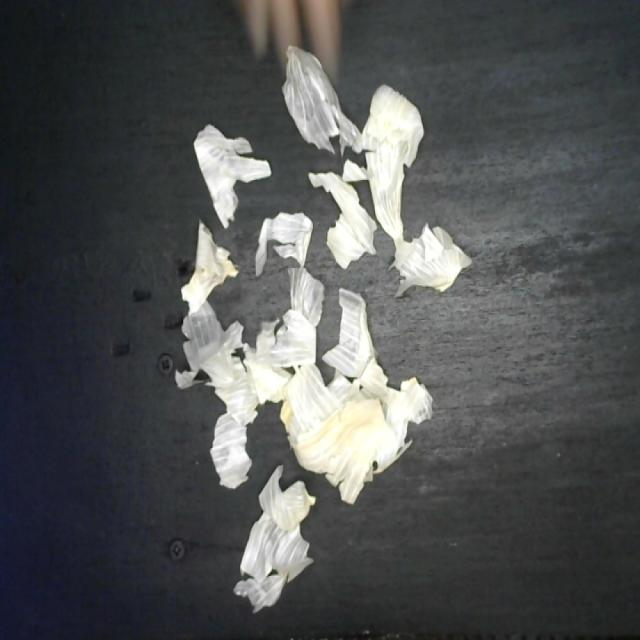biodegradable: (167, 40, 475, 613)
